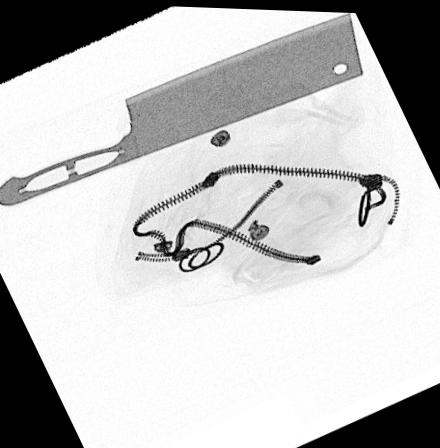Knife: (0, 10, 364, 205)
